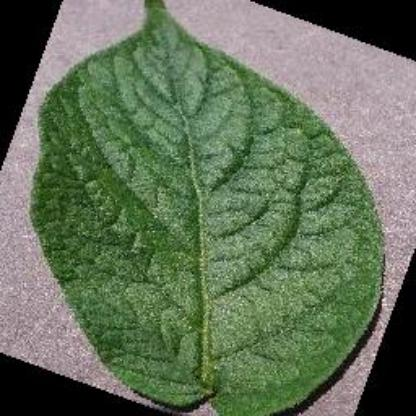Healthy-plant: (34, 0, 392, 416)
